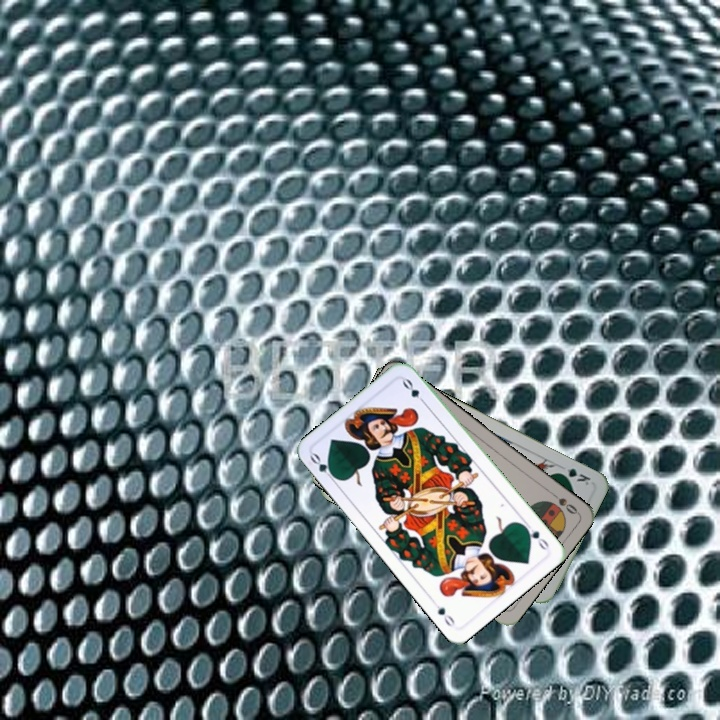GK: (554, 464, 593, 489)
GO: (306, 449, 340, 485), (519, 518, 552, 553)
SO: (545, 487, 580, 517)
